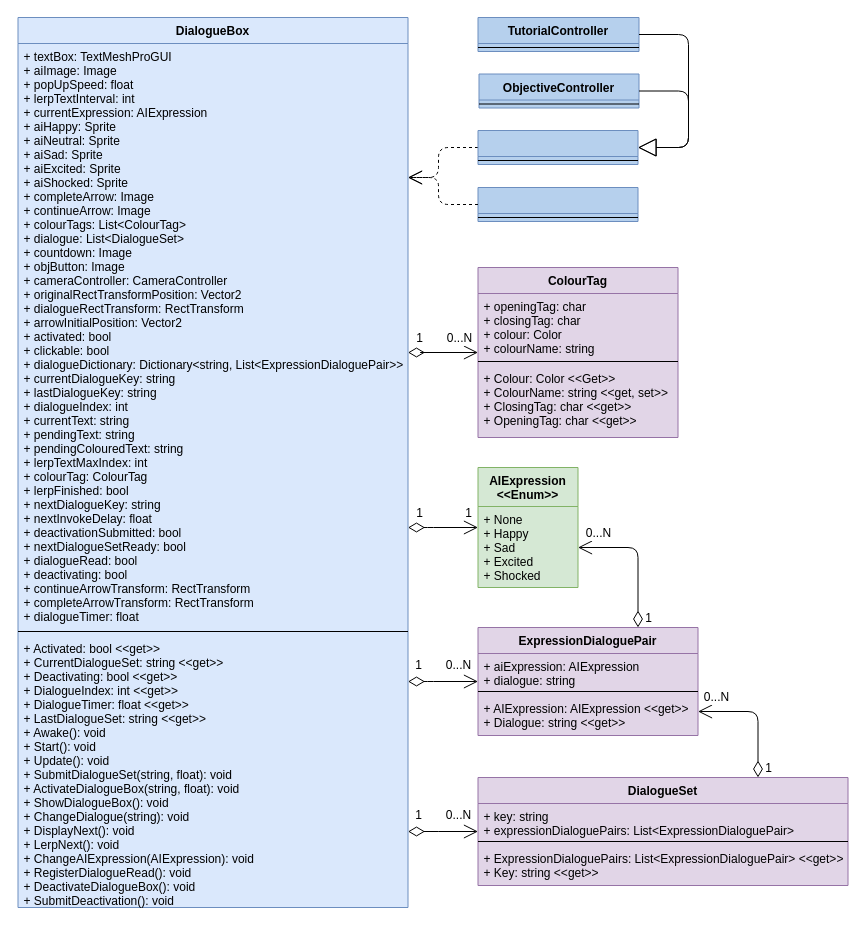
The diagram is 865 pixels wide and 928 high, and some of its shapes have lost their labels. Each missing label, with the centre of its shape:
"DialogueBoxController" goes at pixel 557 147.
"Hub" goes at pixel 557 204.
